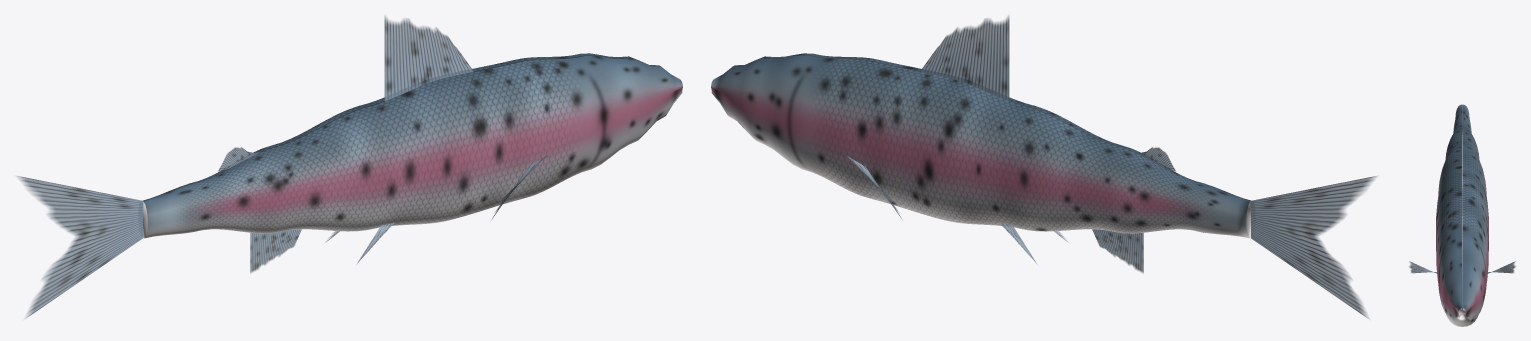
Rendered from forel.glb.
The picture shows the model from 3 angles, left to right: view 1: azimuth 30°, elevation 25°; view 2: azimuth 150°, elevation 25°; view 3: azimuth 270°, elevation 25°; orthographic projection. The views are drawn at different scales.
Visible parts, largest first — view 1: forel; view 2: forel; view 3: forel.
Boxes of the visible parts, left/top/right/bottom form: forel: left=16, top=15, right=682, bottom=318; forel: left=711, top=15, right=1377, bottom=318; forel: left=1409, top=104, right=1515, bottom=326.
Bounding box in the file's own units: 0.5704 × 0.1907 × 0.1074.
1 material, 1 textured.
